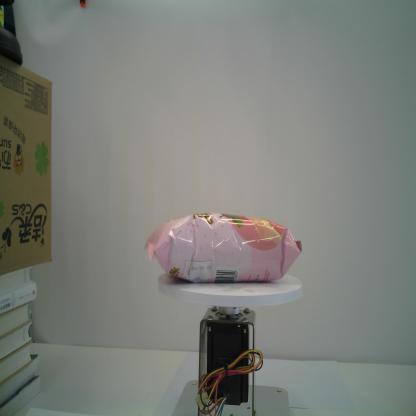Puffed Food: (141, 207, 304, 285)
